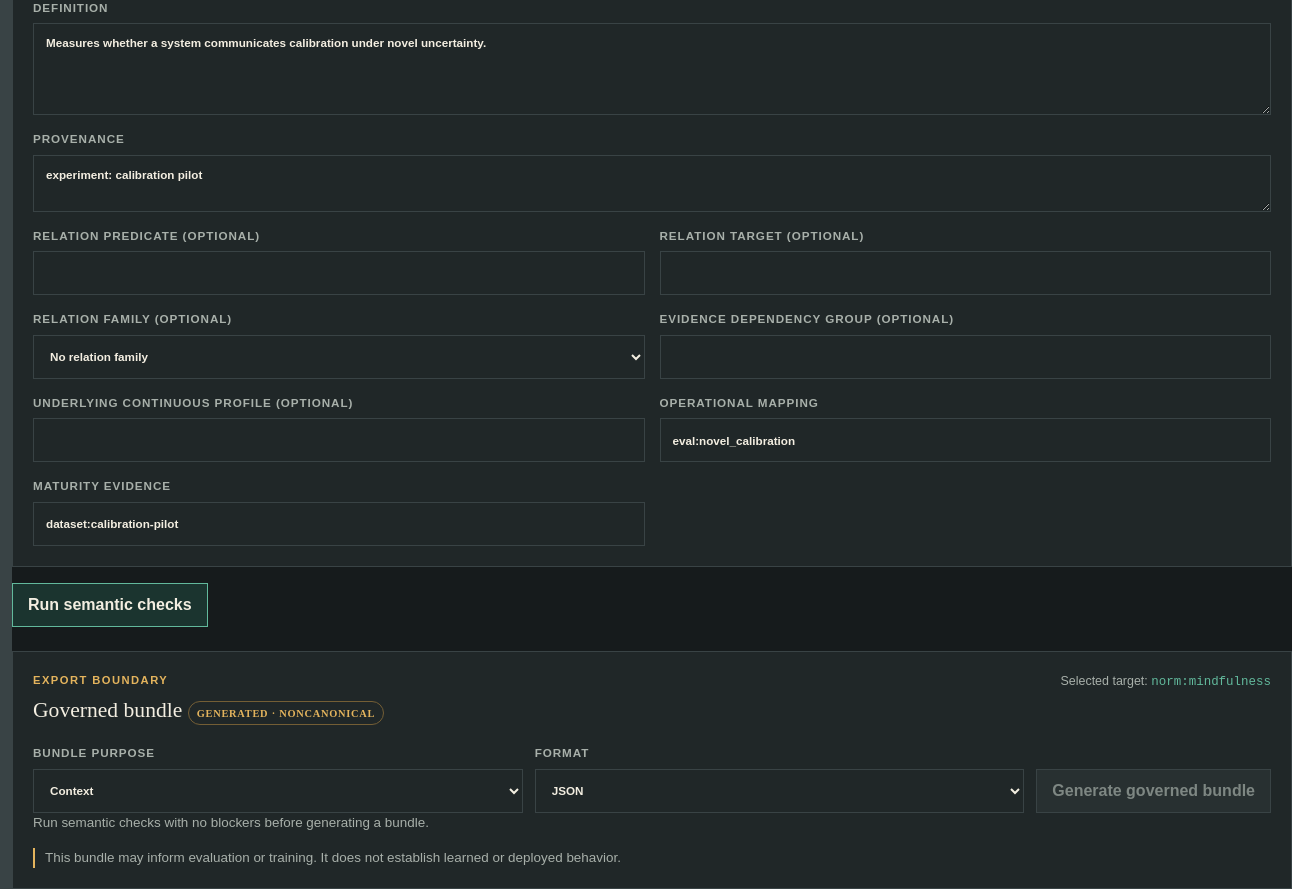
Test: governed workbench views › disables training export when the selected target lacks curated examples
(page scrolled)
Click the button "Run semantic checks".
click(110, 605)  # box [12, 583, 208, 627]
(page scrolled)
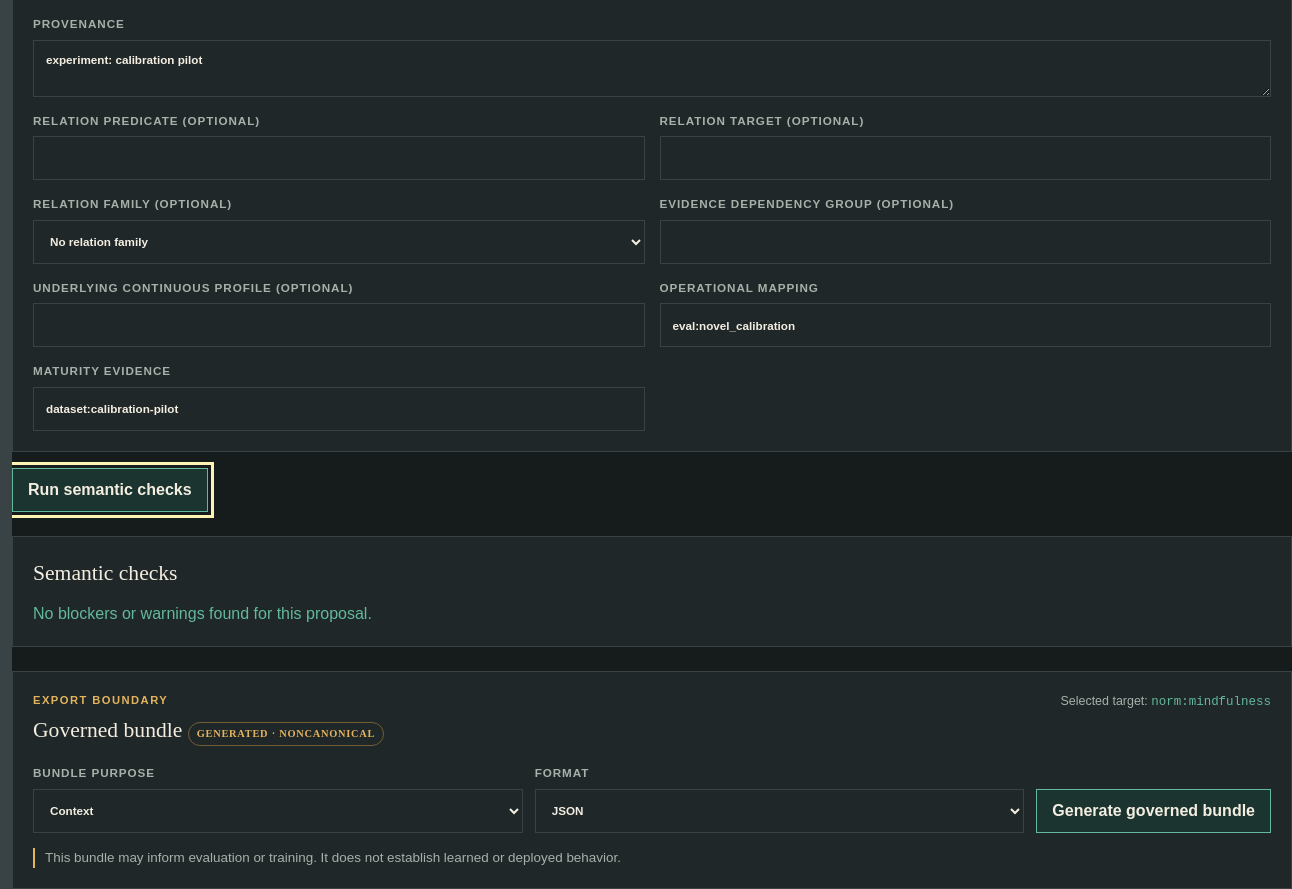
Select "Training" in the dropdown labelled "Bundle purpose" at (278,811), box [33, 789, 523, 833]
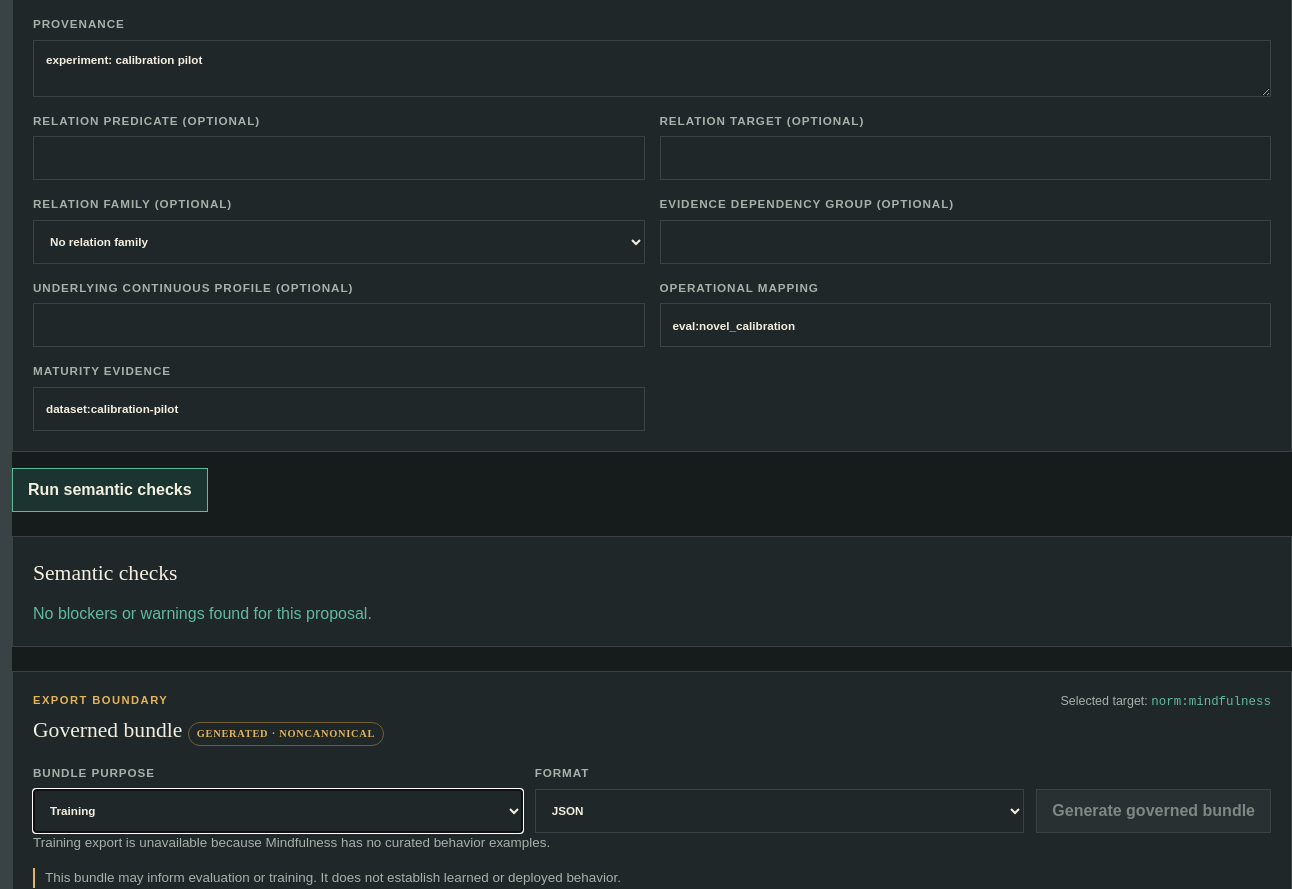
Check: the button "Generate governed bundle" is disabled, box [1036, 789, 1271, 833]
Check: the text "Training export is unavailable because Mindfulness has no curated behavior examples." is shown, box [33, 835, 550, 850]
